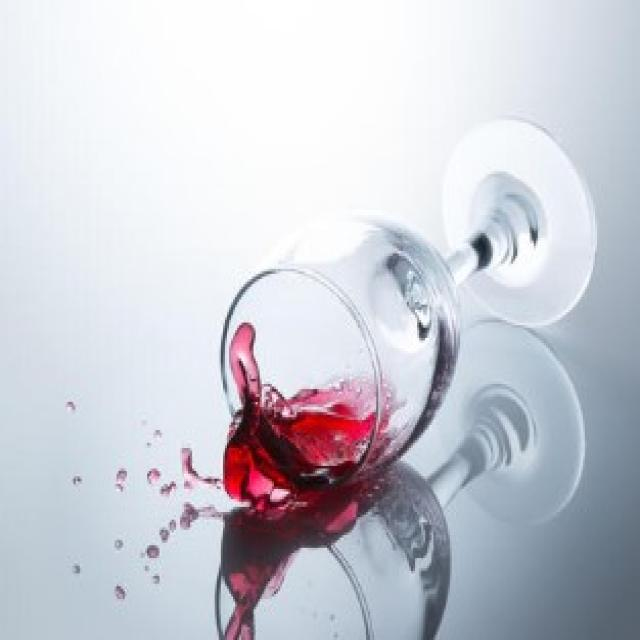electronic: (231, 106, 592, 490)
